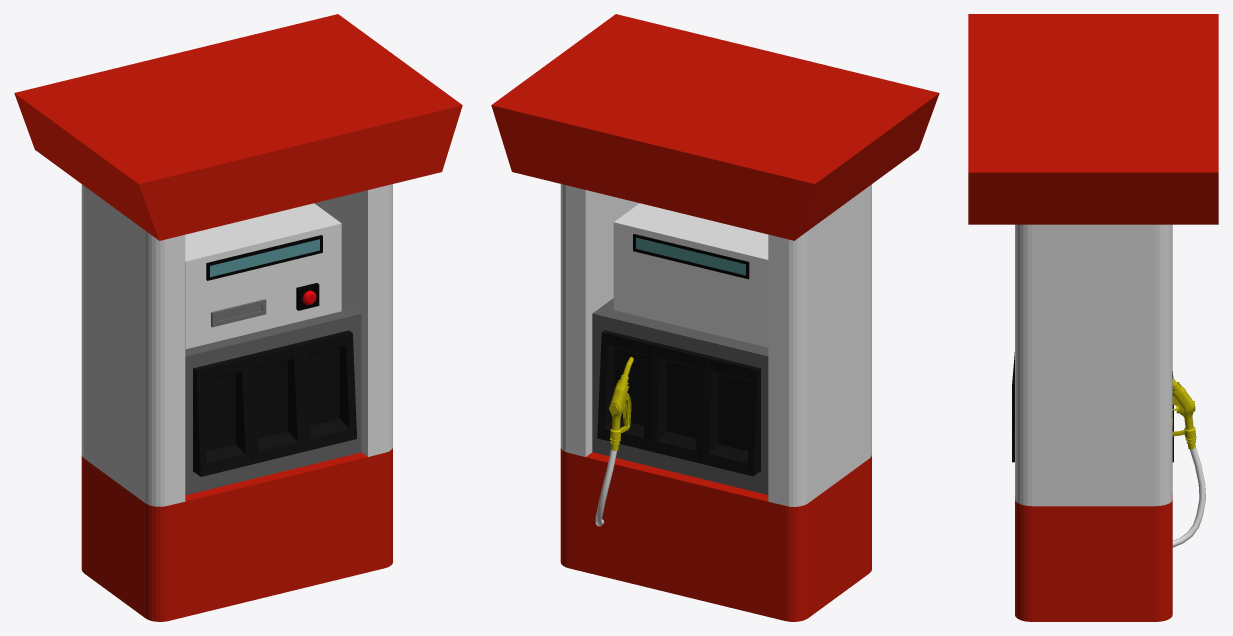
File: Pump Stand.fbx
3 renders of one model, left to right at view 1: azimuth 30°, elevation 25°; view 2: azimuth 150°, elevation 25°; view 3: azimuth 270°, elevation 25°, orthographic.
Parts seen in each view (by area): view 1: Pump Stand, Pump Interface; view 2: Pump Stand, Pump Interface, Pump; view 3: Pump Stand, Pump.
Part boxes in pixels (x1,y1,x2,y2): Pump Stand: [14, 14, 462, 621]; Pump Interface: [185, 203, 341, 349]; Pump Stand: [491, 14, 939, 621]; Pump Interface: [613, 203, 768, 347]; Pump: [595, 357, 633, 526]; Pump Stand: [968, 14, 1218, 621]; Pump: [1172, 379, 1205, 547].
Size of the model in its own units: 157 by 216 by 104.
